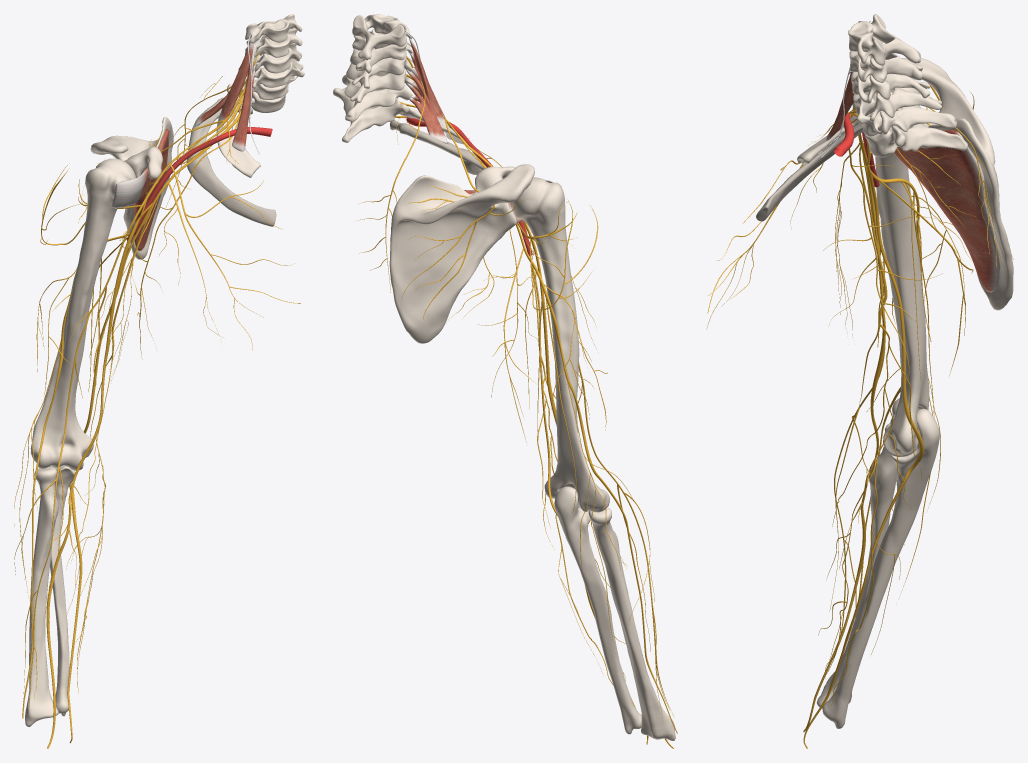
Rendered from open3dmodel-brachial-plexus-and-branches.glb.
3 views of the same model, side by side, from view 1: azimuth 30°, elevation 25°; view 2: azimuth 150°, elevation 25°; view 3: azimuth 270°, elevation 25° (orthographic). The views are drawn at different scales.
Visible parts, largest first — view 1: Humerus.r, Radius.r, Scapula.r, Ulna.r, Rib (2nd).r, Median nerve.r, Subscapularis muscle.r, Medial antebrachial cutaneous nerve.r, Ulnar nerve.r, Musculocutaneus nerve - lateral antebrachial cutaneous nerve, Rib (1st).r, Musculocutaneus nerve.r (+16 smaller); view 2: Scapula.r, Humerus.r, Ulna.r, Radius.r, Radial nerve.r, Cervical vertebra (C3), Thoracic vertebra (T1), Medial antebrachial cutaneous nerve.r, Cervical vertebra (C7), Rib (2nd).r, Cervical vertebra (C6), Suprascapular nerve.r (+11 smaller); view 3: Humerus.r, Ulna.r, Subscapularis muscle.r, Scapula.r, Radius.r, Medial antebrachial cutaneous nerve.r, Ulnar nerve.r, Thoracic vertebra (T1), Cervical vertebra (C3), Median nerve.r, Cervical vertebra (C7), Cervical vertebra (C6) (+11 smaller).
Part boxes in pixels (x1,y1,x2,y2): Humerus.r: (30,158,136,470); Radius.r: (25,466,58,726); Scapula.r: (90,117,173,259); Ulna.r: (49,465,75,716); Rib (2nd).r: (186,97,276,226); Median nerve.r: (46,217,140,748); Subscapularis muscle.r: (112,128,169,250); Medial antebrachial cutaneous nerve.r: (66,200,155,693); Ulnar nerve.r: (67,203,153,743); Musculocutaneus nerve - lateral antebrachial cutaneous nerve: (14,462,63,706); Rib (1st).r: (216,93,260,177); Musculocutaneus nerve.r: (58,196,148,462); Scapula.r: (389,164,534,343); Humerus.r: (512,177,609,512); Ulna.r: (554,486,641,734); Radius.r: (588,507,675,740); Radial nerve.r: (516,223,597,513); Cervical vertebra (C3): (352,14,412,60); Thoracic vertebra (T1): (333,87,409,142); Medial antebrachial cutaneous nerve.r: (523,221,626,684); Cervical vertebra (C7): (342,75,411,121); Rib (2nd).r: (390,120,484,175); Cervical vertebra (C6): (346,63,414,102); Suprascapular nerve.r: (401,117,531,319); Humerus.r: (875,87,929,456); Ulna.r: (822,408,939,728); Subscapularis muscle.r: (852,102,1001,292); Scapula.r: (852,57,1013,310); Radius.r: (816,423,896,708); Medial antebrachial cutaneous nerve.r: (818,146,921,705); Ulnar nerve.r: (803,148,923,748); Thoracic vertebra (T1): (864,108,967,157); Cervical vertebra (C3): (848,14,920,65); Median nerve.r: (803,169,885,732); Cervical vertebra (C7): (862,92,956,136); Cervical vertebra (C6): (853,87,941,123).
Size of the model in its own units: 0.3307 by 0.681 by 0.2181.
18 materials, 2 textured.
